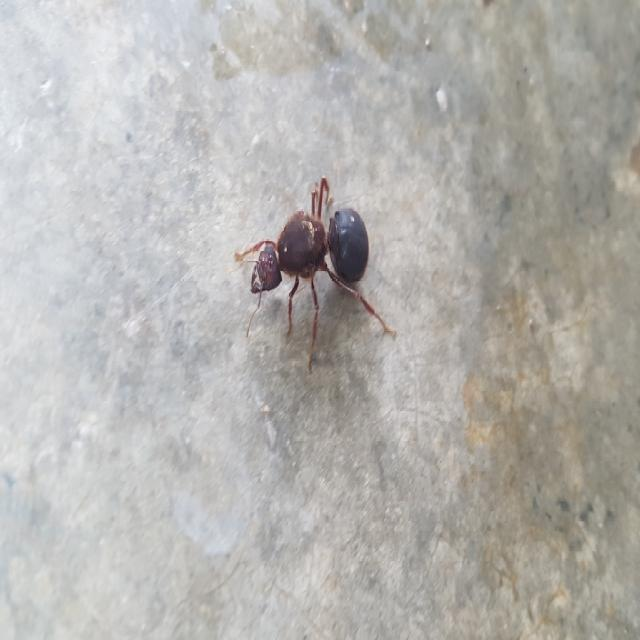Alive-Female-Dealate: (234, 175, 398, 376)
